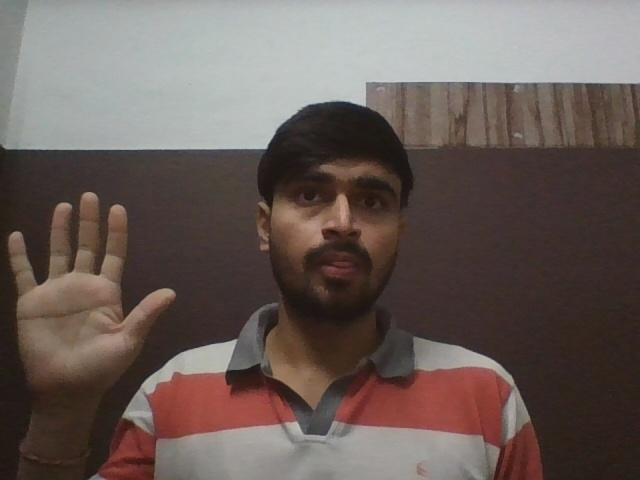Hello: (7, 191, 177, 401)
